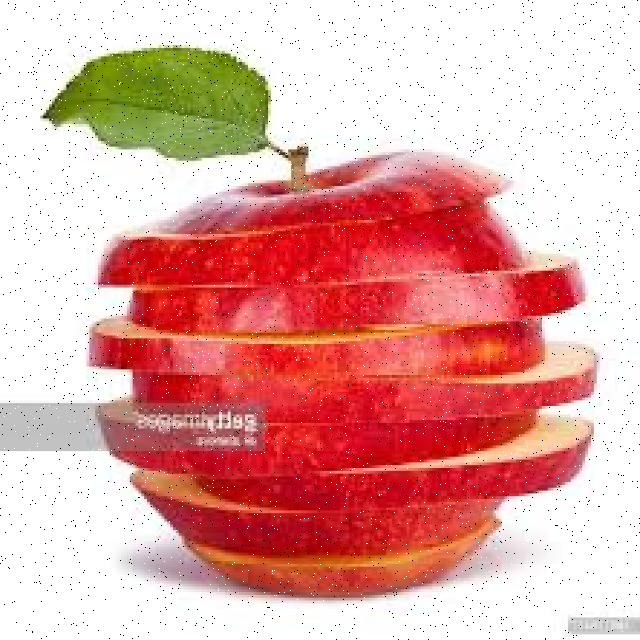Apple: (98, 132, 600, 586)
